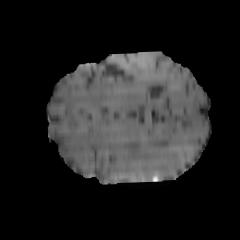glioma: (59, 129, 183, 185)
